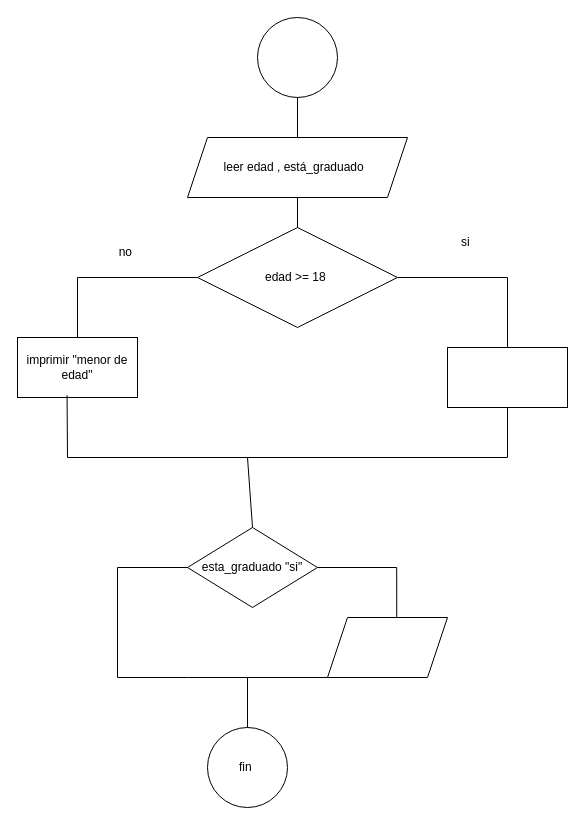
Image size: 585x825. Some labels were removed from this diagram. The shapes that lost their labels are listed below. From the top down, each one's centre as x and y in pixels, then its label:
(x=297, y=57): inicio
(x=507, y=377): imprimir "mayor de edad"
(x=387, y=647): imprimir "es graduado"
